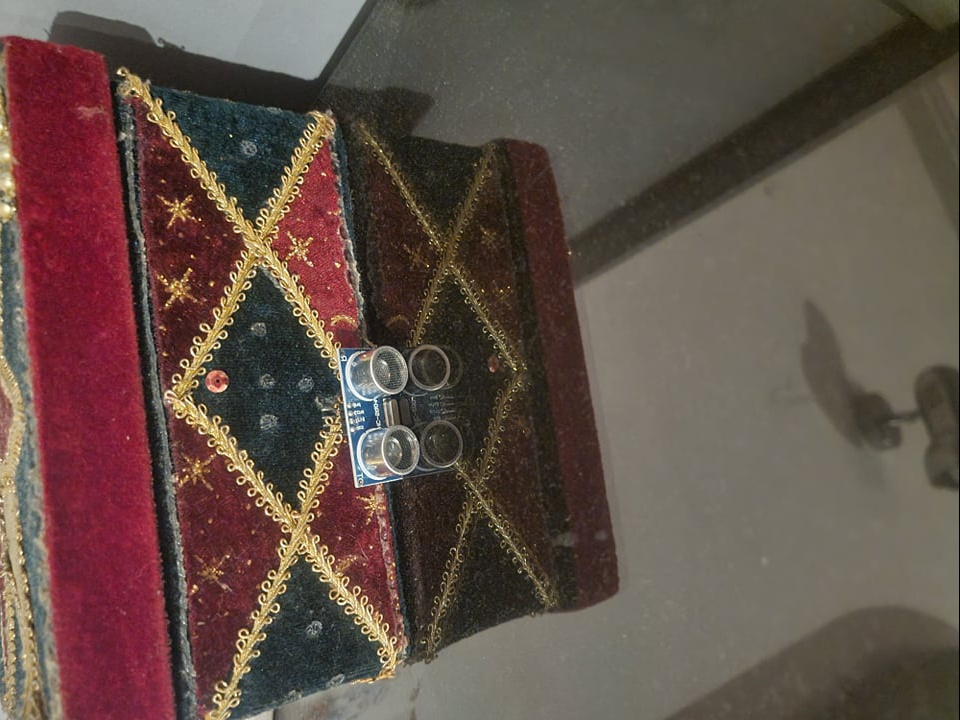SENSOR: (337, 347, 424, 488)
